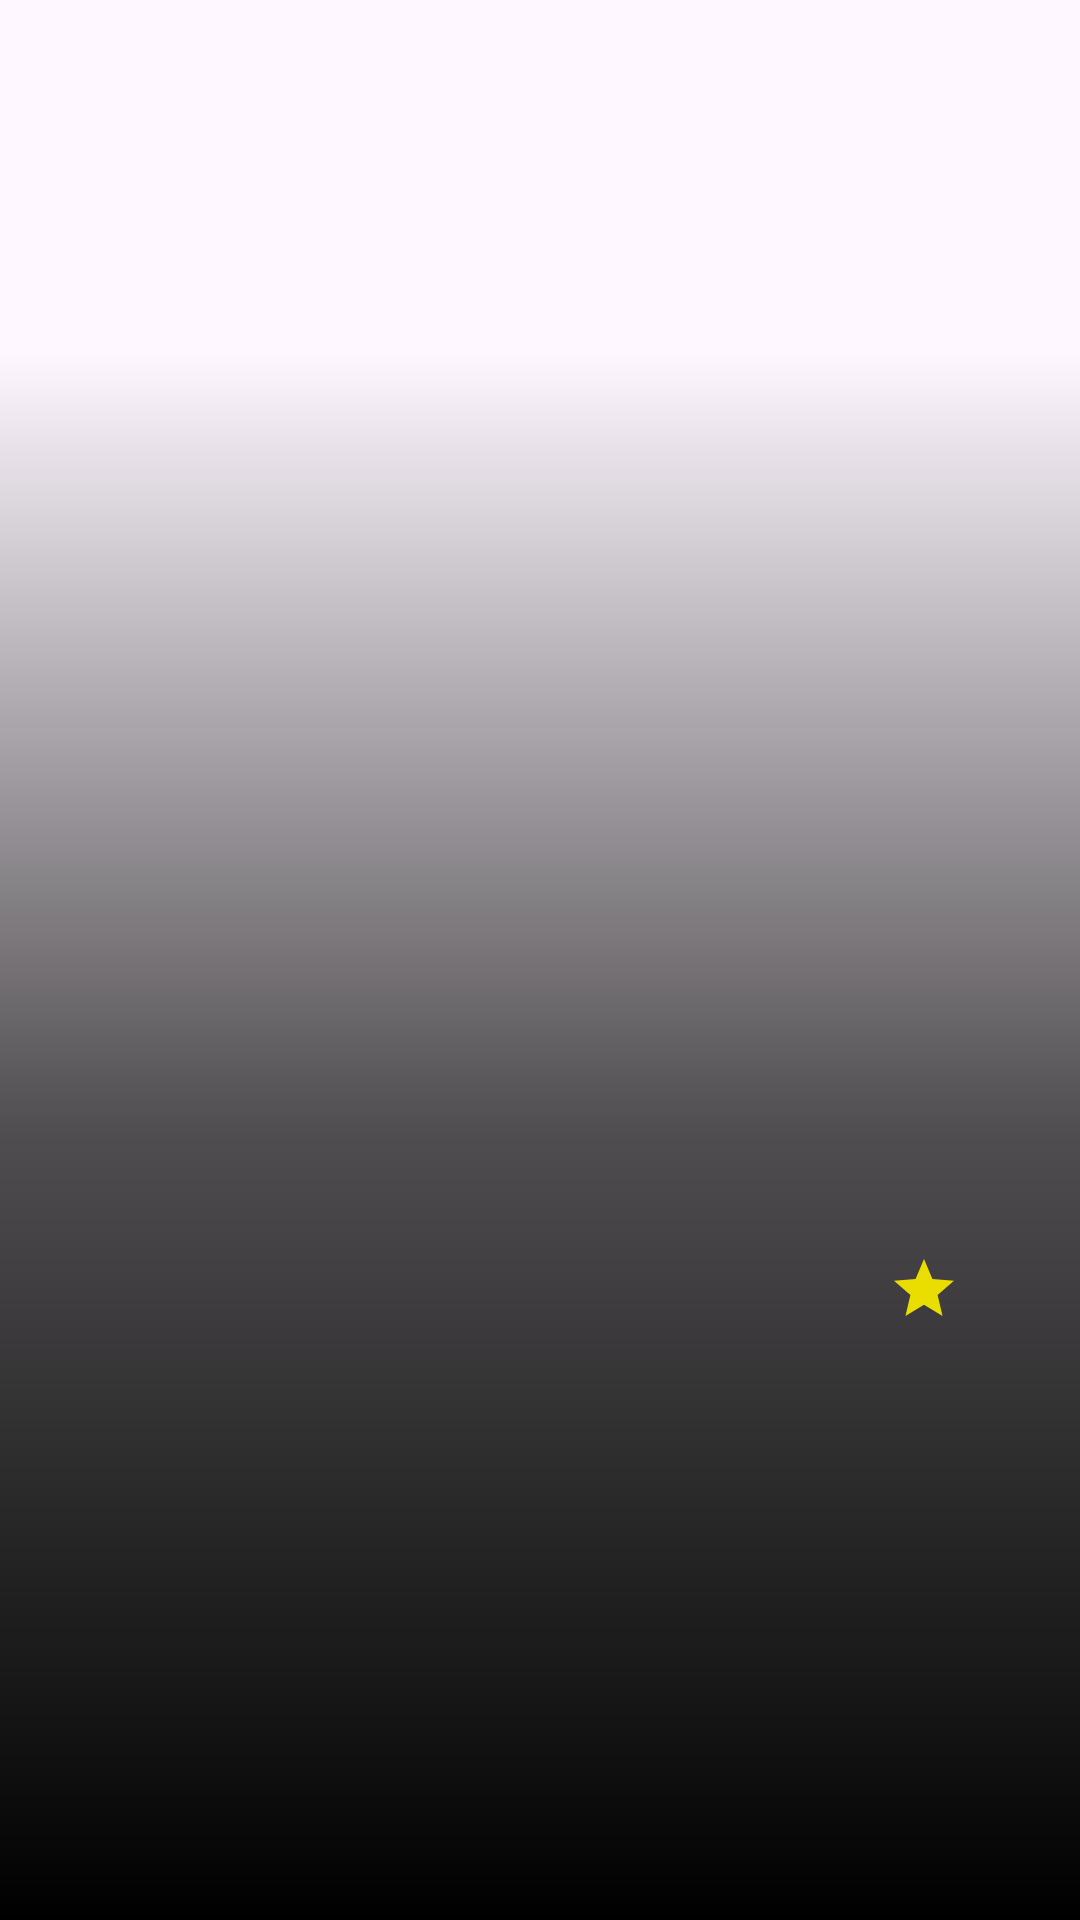

Icon click points for this 1080px x 1920px phone screenshot, format [x,y]:
star: [924,1287]
